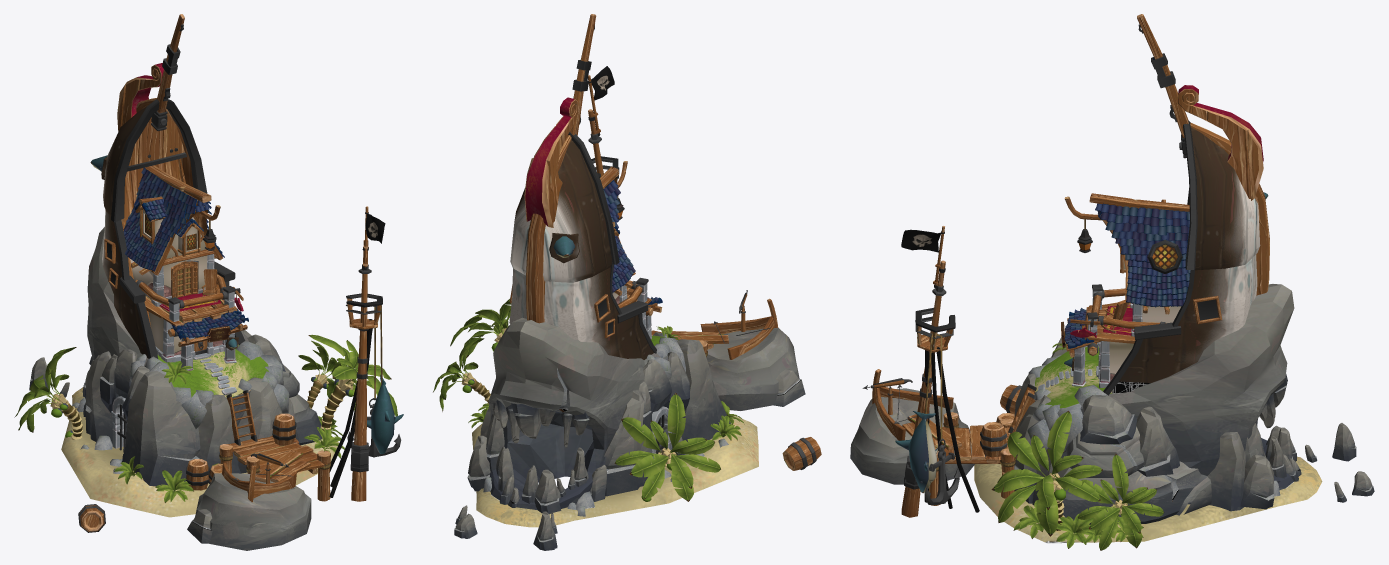
Rendered from I - land.fbx.
3 views of the same model, side by side, from view 1: azimuth 30°, elevation 25°; view 2: azimuth 150°, elevation 25°; view 3: azimuth 270°, elevation 25° (orthographic). The views are drawn at different scales.
Visible parts, largest first — view 1: Rock, House1, Flag, Wood, Tree; view 2: Rock, House1, Tree, Wood, Flag; view 3: Rock, House1, Flag, Wood.
Boxes of the visible parts, x1,y1,x2,y2 form: Rock: [29, 227, 397, 550]; House1: [90, 14, 257, 445]; Flag: [329, 206, 403, 501]; Wood: [78, 413, 331, 532]; Tree: [14, 347, 82, 439]; Rock: [433, 299, 805, 550]; House1: [509, 14, 662, 359]; Tree: [614, 393, 720, 501]; Wood: [651, 290, 821, 470]; Flag: [588, 66, 619, 183]; Rock: [850, 284, 1374, 550]; House1: [1008, 14, 1269, 432]; Flag: [895, 226, 979, 517]; Wood: [862, 369, 1021, 505].
Bounding box in the file's own units: 130599 × 168478 × 166955.
